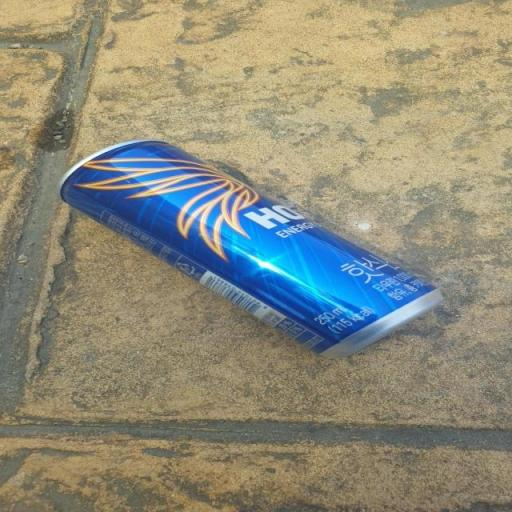metal: (51, 120, 464, 364)
